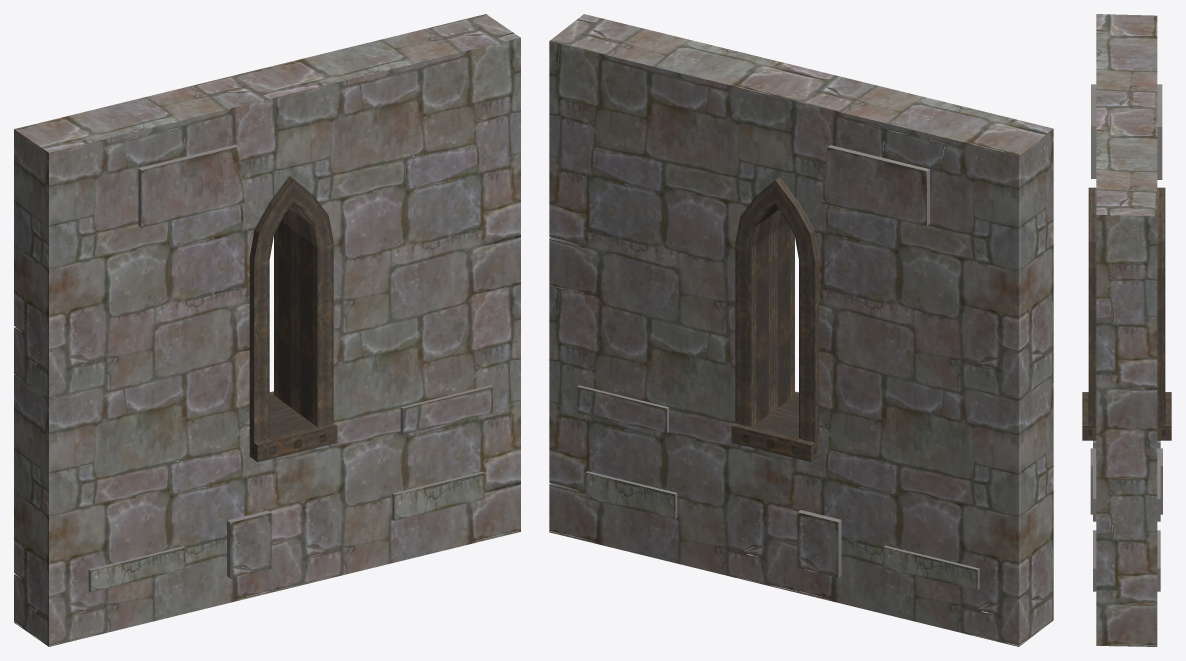
The picture shows the model from 3 angles, left to right: view 1: azimuth 30°, elevation 25°; view 2: azimuth 150°, elevation 25°; view 3: azimuth 270°, elevation 25°; orthographic projection. The views are drawn at different scales.
Parts seen in each view (by area): view 1: SM_BB_T3_Extended_Wall_Windowframe_Large_03_LOD0; view 2: SM_BB_T3_Extended_Wall_Windowframe_Large_03_LOD0; view 3: SM_BB_T3_Extended_Wall_Windowframe_Large_03_LOD0.
Boxes of the visible parts, x1,y1,x2,y2 form: SM_BB_T3_Extended_Wall_Windowframe_Large_03_LOD0: [14, 14, 520, 646]; SM_BB_T3_Extended_Wall_Windowframe_Large_03_LOD0: [549, 14, 1053, 646]; SM_BB_T3_Extended_Wall_Windowframe_Large_03_LOD0: [1082, 14, 1171, 646].
Bounding box in the file's own units: 3 × 3.01 × 0.5651.
Materials: 2 (2 with a texture image).
